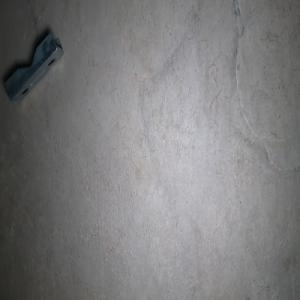ClampPart: (2, 30, 64, 104)
